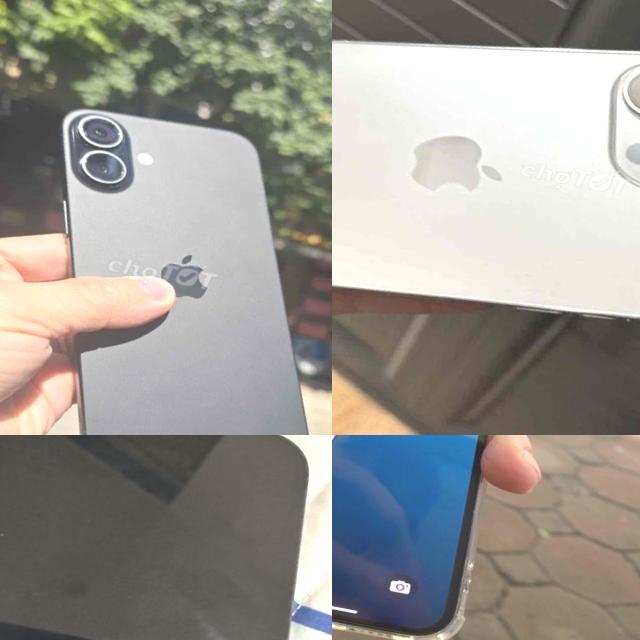gen_12_13: (0, 435, 332, 640), (332, 435, 558, 640)
gen_14: (332, 0, 640, 389)
gen_16: (0, 94, 332, 435)
